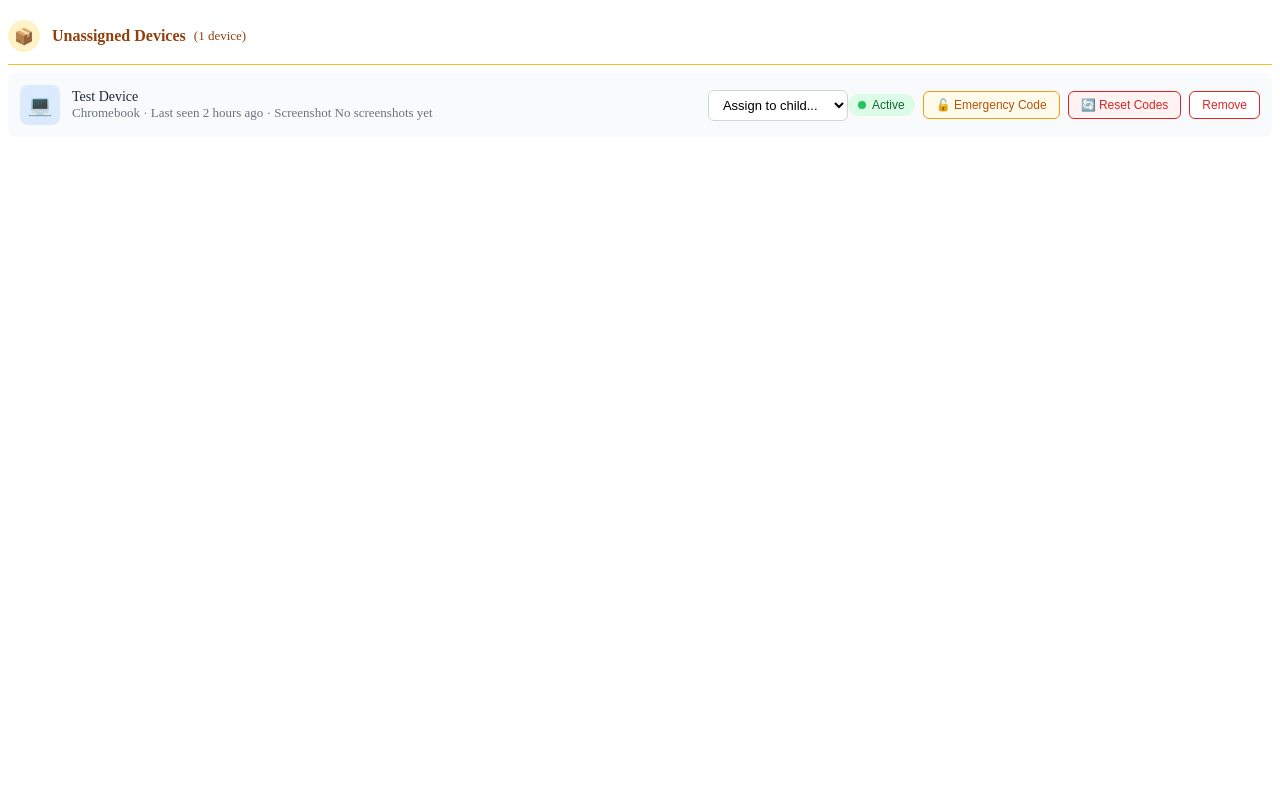
Scenario: StatusBadge Component - Story 19.2 › AC7: Click for health details › should close health modal when close button is clicked
This screenshot has width=1280, height=800.
Note: Open the modal
Click the button with aria-label "Device status:" at point(881, 105), box top-left (848, 94), bottom-right (915, 116)
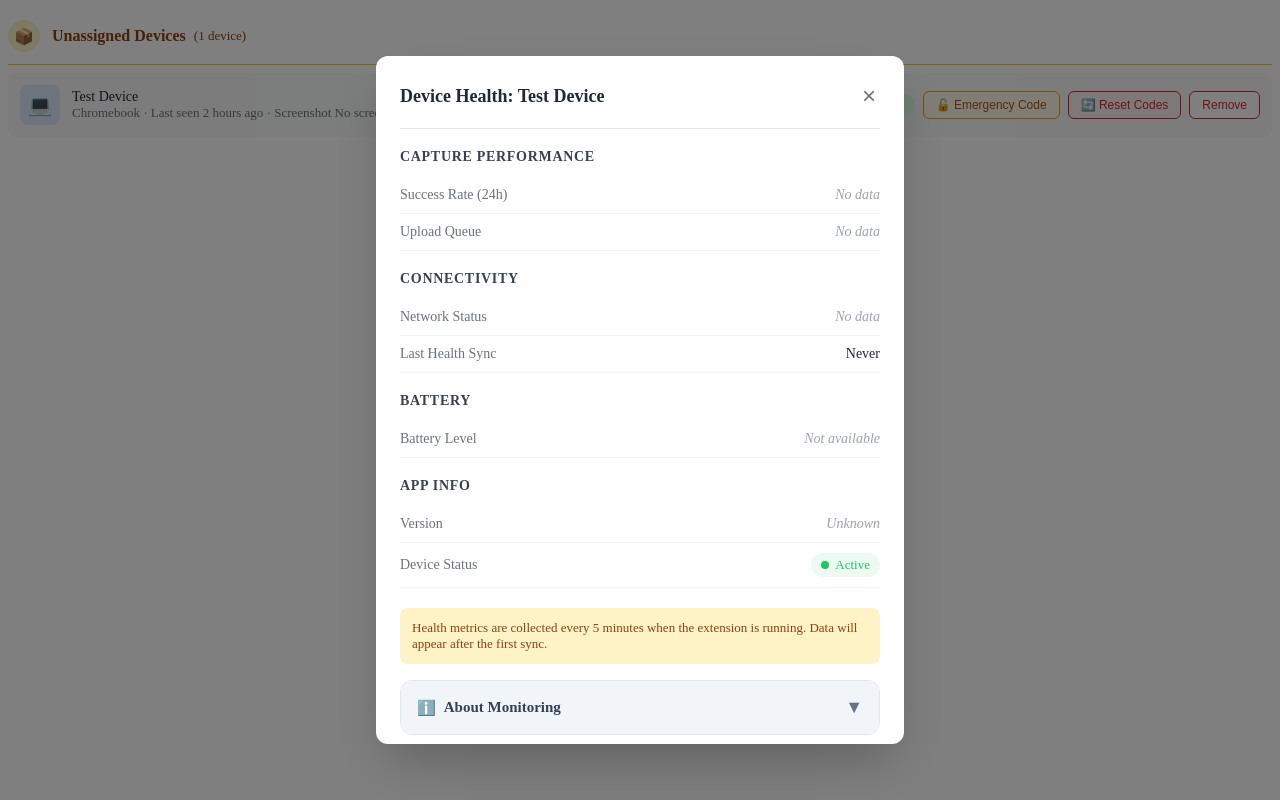
Result: the element with test id "health-modal" is shown at top-left (376, 56), bottom-right (904, 744)
Note: Close the modal
Click the button with test id "health-modal-close" at point(869, 96), box top-left (858, 80), bottom-right (880, 112)
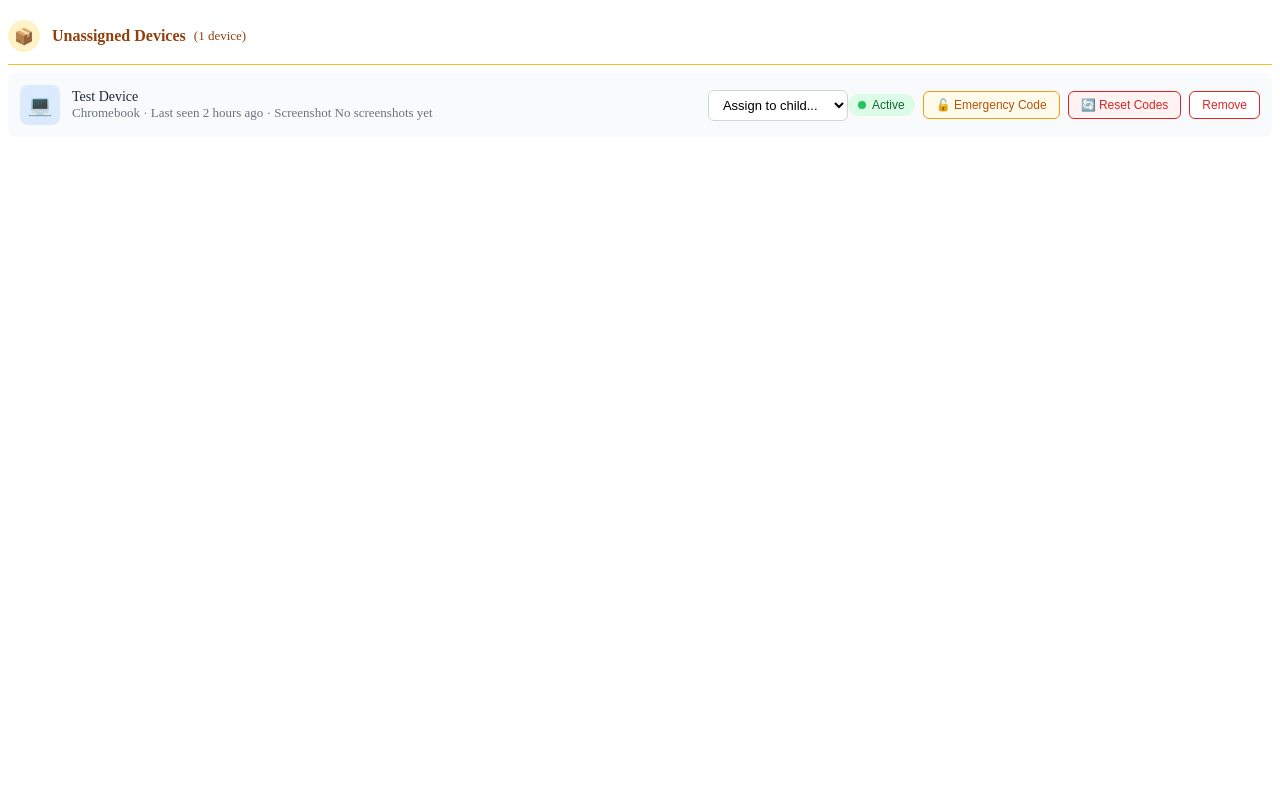
Result: the element with test id "health-modal" is gone
